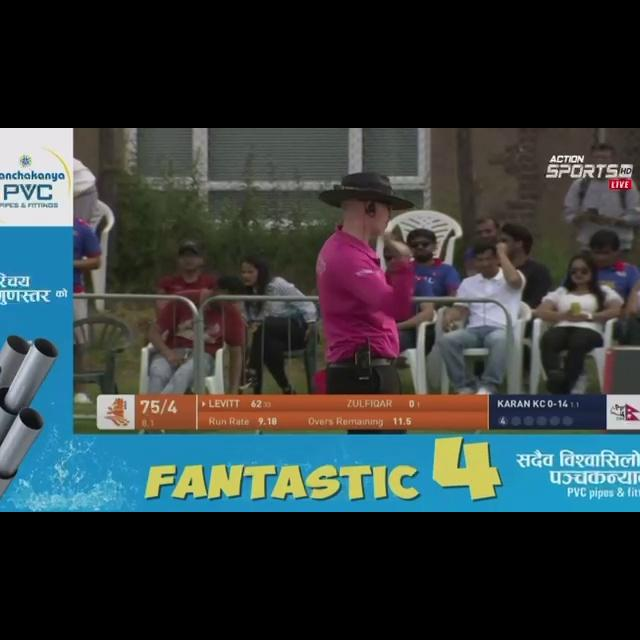umpire: (254, 150, 499, 393)
